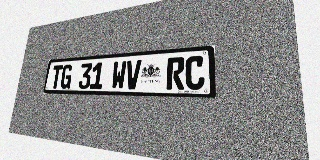1: (90, 62, 105, 89)
3: (78, 63, 92, 89)
C: (185, 55, 205, 90)
G: (60, 64, 73, 89)
R: (166, 57, 185, 90)
T: (50, 65, 63, 89)
V: (125, 60, 141, 89)
W: (111, 61, 127, 89)
